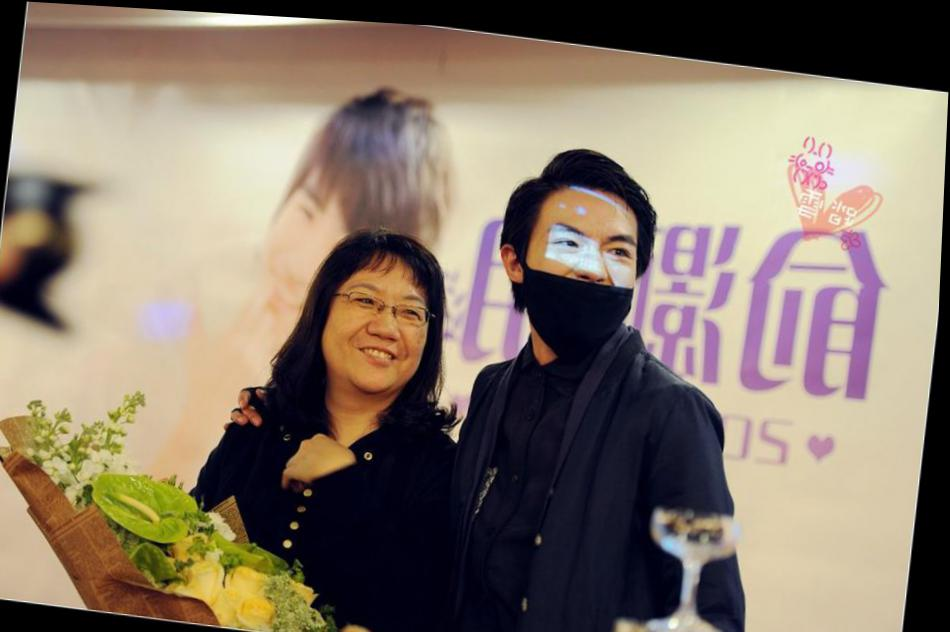NONE: (254, 176, 372, 337), (331, 274, 437, 386)
WRONG: (516, 214, 646, 346)
